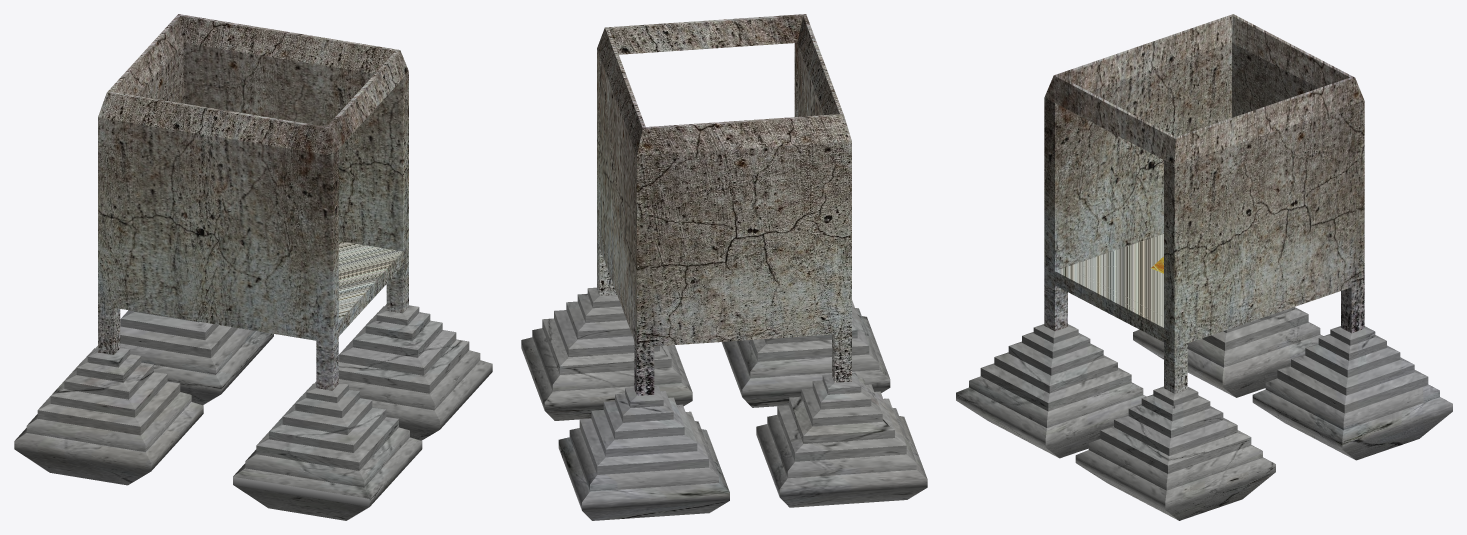
The model's file is Treasure_Ruin.fbx.
3 views of the same model, side by side, from view 1: azimuth 30°, elevation 25°; view 2: azimuth 150°, elevation 25°; view 3: azimuth 270°, elevation 25° (orthographic). The views are drawn at different scales.
Parts seen in each view (by area): view 1: polySurface11; view 2: polySurface11; view 3: polySurface11.
Part boxes in pixels (x1,y1,x2,y2): polySurface11: [14, 14, 492, 520]; polySurface11: [521, 14, 927, 520]; polySurface11: [956, 14, 1452, 520].
Bounding box in the file's own units: 9.64 × 7.65 × 9.75.
4 materials, 3 textured.
